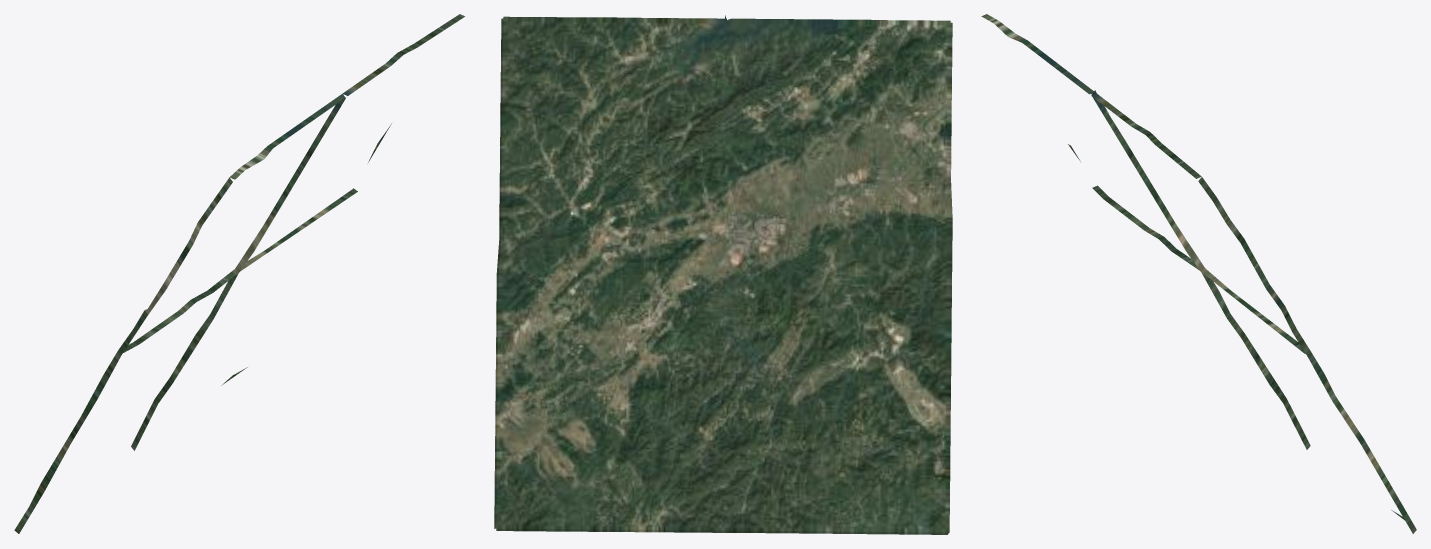
The picture shows the model from 3 angles, left to right: view 1: azimuth 30°, elevation 25°; view 2: azimuth 150°, elevation 25°; view 3: azimuth 270°, elevation 25°; orthographic projection.
Bounding box in the file's own units: 158904 × 140687 × 134786.
1 material, 1 textured.
